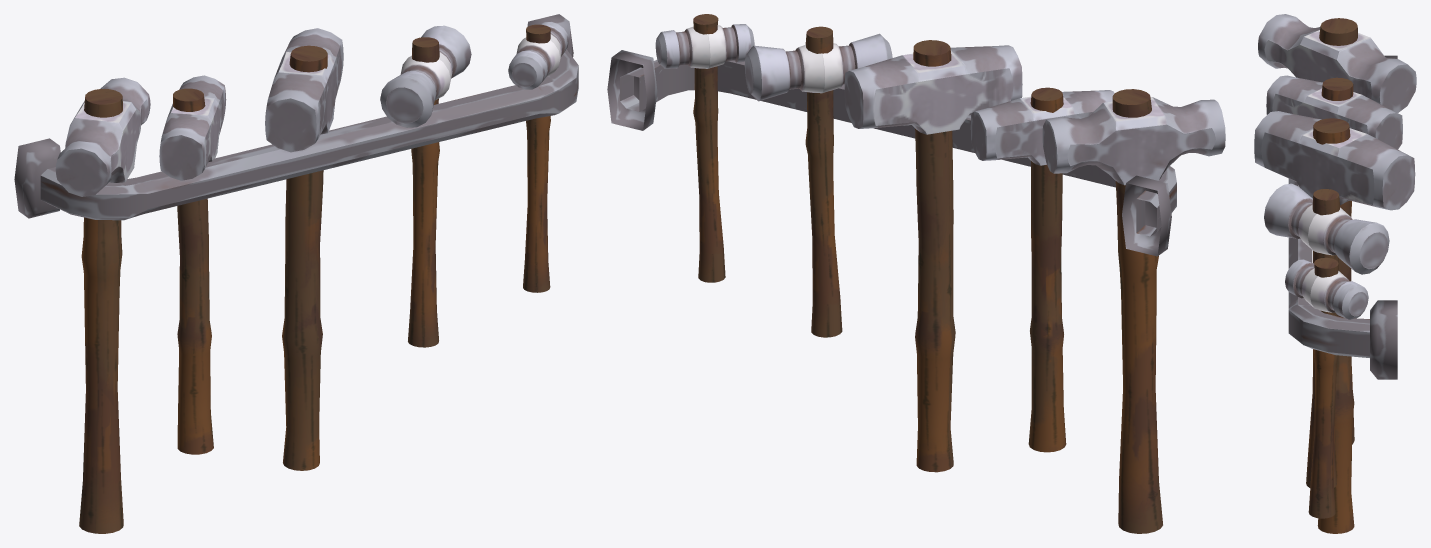
File: Hammer_Rack.fbx
3 renders of one model, left to right at view 1: azimuth 30°, elevation 25°; view 2: azimuth 150°, elevation 25°; view 3: azimuth 270°, elevation 25°, orthographic. The views are drawn at different scales.
Parts seen in each view (by area): view 1: Hammer_Rack; view 2: Hammer_Rack; view 3: Hammer_Rack.
Part boxes in pixels (left/top/right/bottom): Hammer_Rack: left=14, top=14, right=578, bottom=533; Hammer_Rack: left=607, top=14, right=1225, bottom=533; Hammer_Rack: left=1254, top=14, right=1416, bottom=533.
Bounding box in the file's own units: 71.58 × 51.84 × 18.29.
